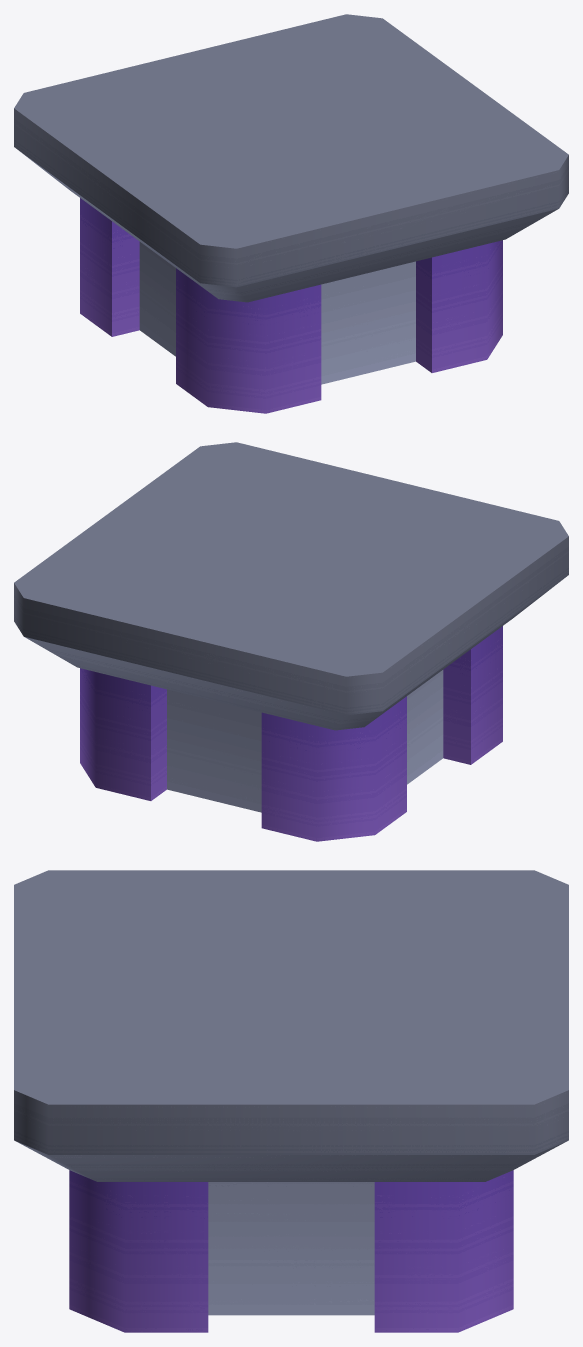
File: tower-defense-kit--tower-square-middle-b.glb
3 views of the same model, one above another, from view 1: azimuth 30°, elevation 25°; view 2: azimuth 150°, elevation 25°; view 3: azimuth 270°, elevation 25° (orthographic). The views are drawn at different scales.
Parts seen in each view (by area): view 1: tower-square-middle-b; view 2: tower-square-middle-b; view 3: tower-square-middle-b.
Boxes of the visible parts, left/top/right/bottom form: tower-square-middle-b: left=14, top=14, right=568, bottom=413; tower-square-middle-b: left=14, top=442, right=568, bottom=841; tower-square-middle-b: left=14, top=870, right=568, bottom=1332.
Size of the model in its own units: 1 by 0.5 by 1.
1 material, 1 textured.
